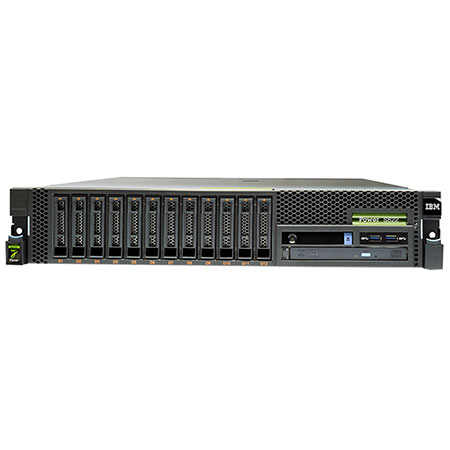ibm-server: (2, 173, 446, 275)
